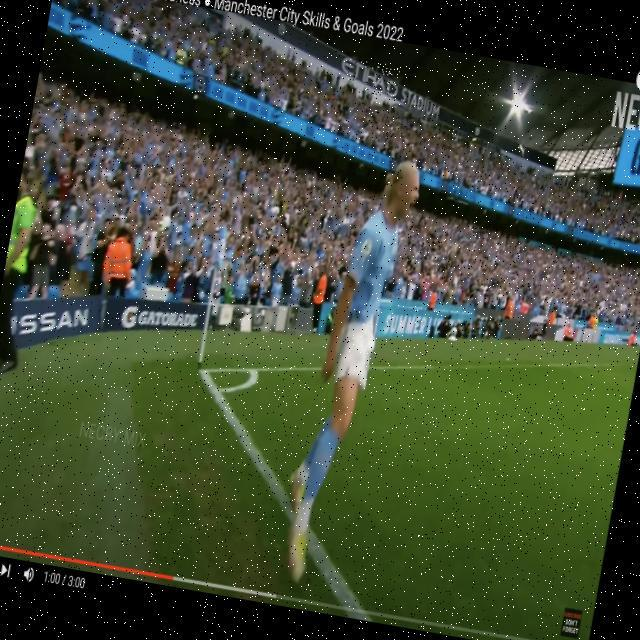Etihad Airways: (339, 55, 402, 100)
